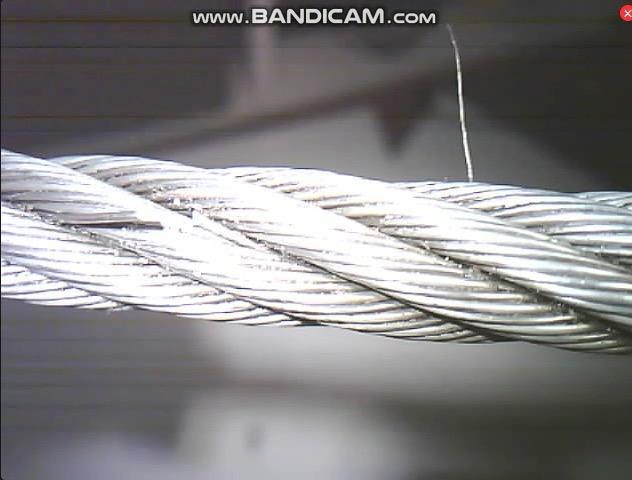break: (43, 193, 161, 244)
